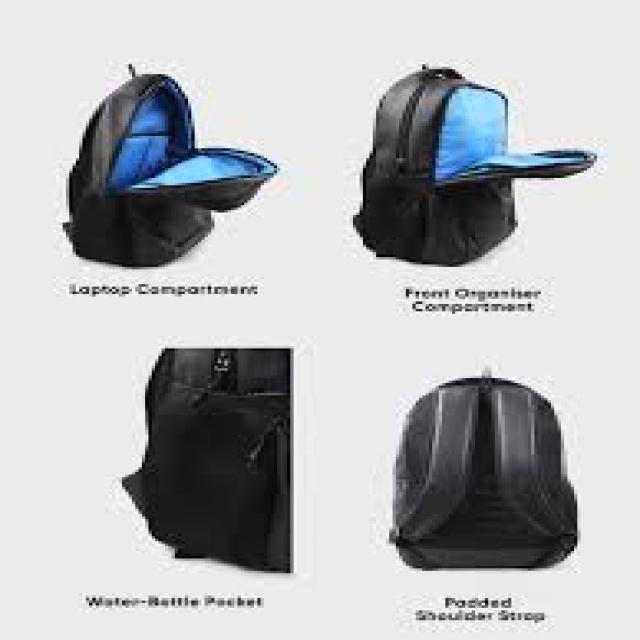backpack: (351, 63, 599, 268), (60, 63, 278, 268), (120, 347, 292, 572), (387, 370, 579, 570)
